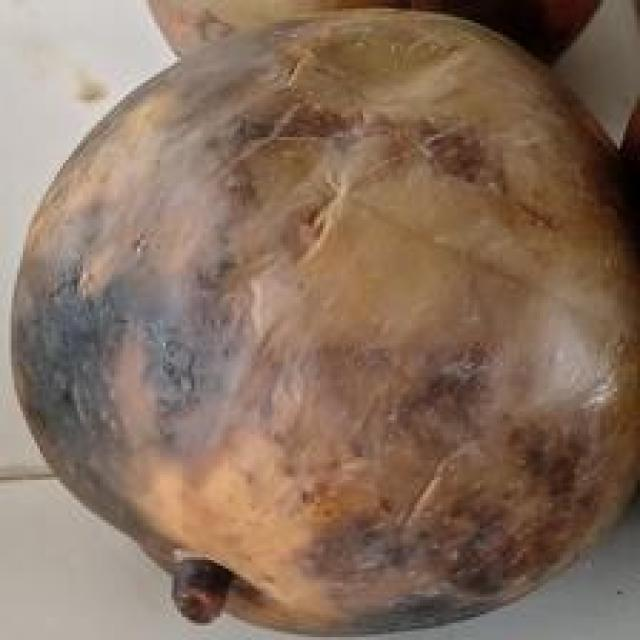Bad_Mango: (15, 12, 640, 631)
